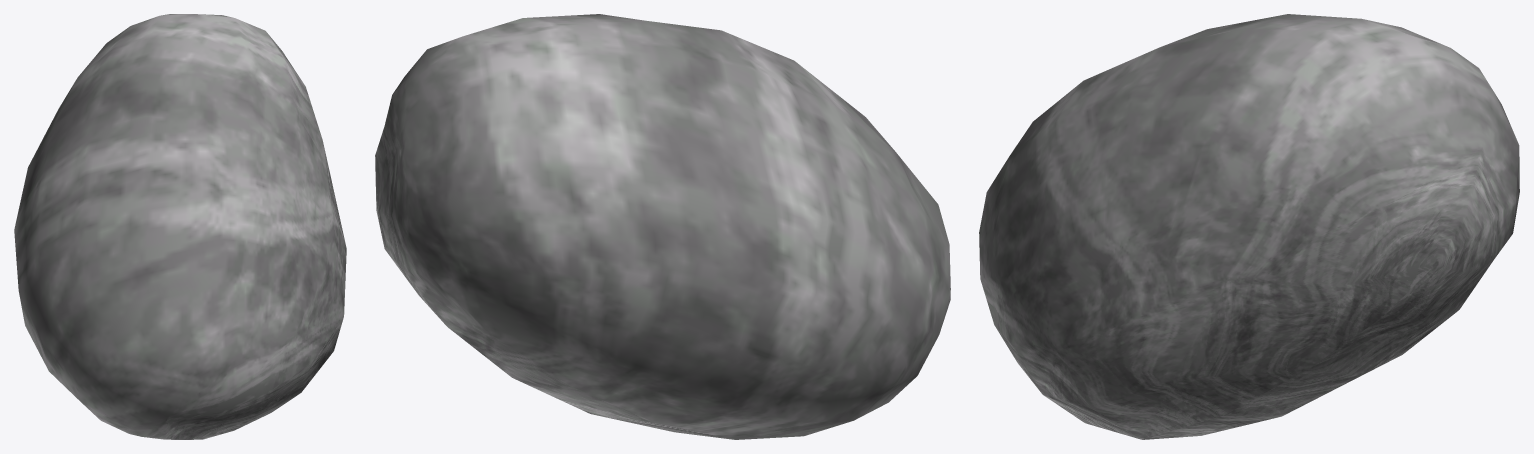
File: Potato_Item (2).fbx
The picture shows the model from 3 angles, left to right: view 1: azimuth 30°, elevation 25°; view 2: azimuth 150°, elevation 25°; view 3: azimuth 270°, elevation 25°; orthographic projection. The views are drawn at different scales.
Visible parts, largest first — view 1: Potato; view 2: Potato; view 3: Potato.
Part boxes in pixels (left/top/right/bottom): Potato: left=14, top=14, right=346, bottom=439; Potato: left=375, top=14, right=950, bottom=439; Potato: left=979, top=14, right=1519, bottom=439.
Size of the model in its own units: 0.4814 by 0.4644 by 0.5425.
